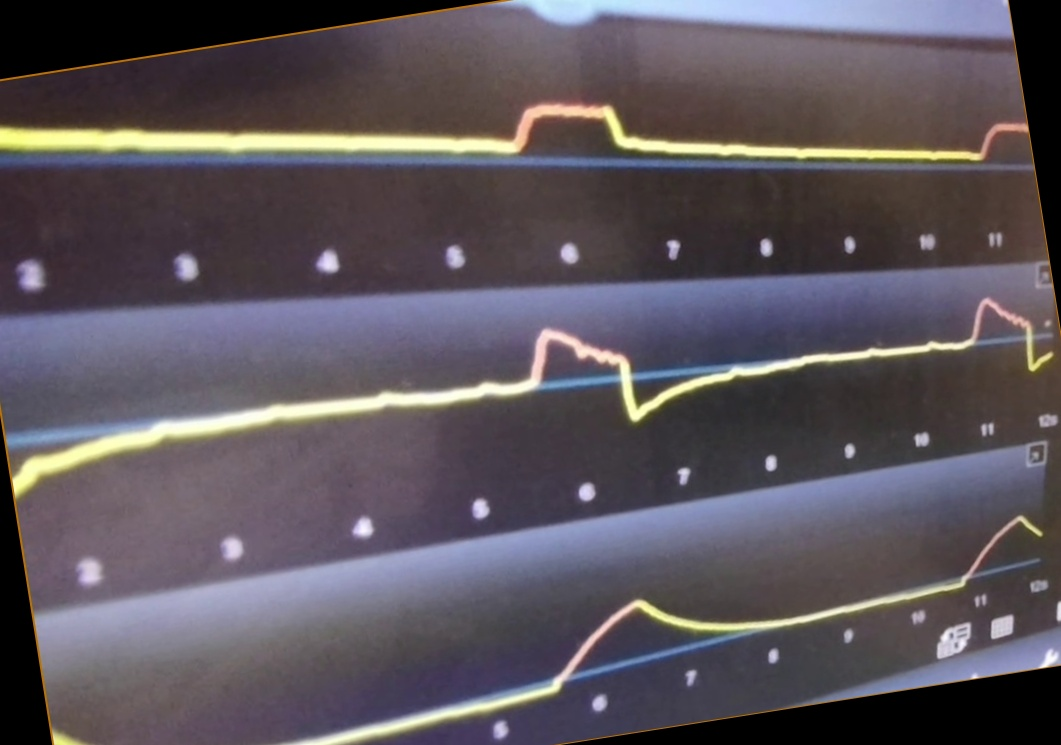Accumulation Flow: (30, 296, 1052, 495)
Volume: (306, 512, 1049, 745)
